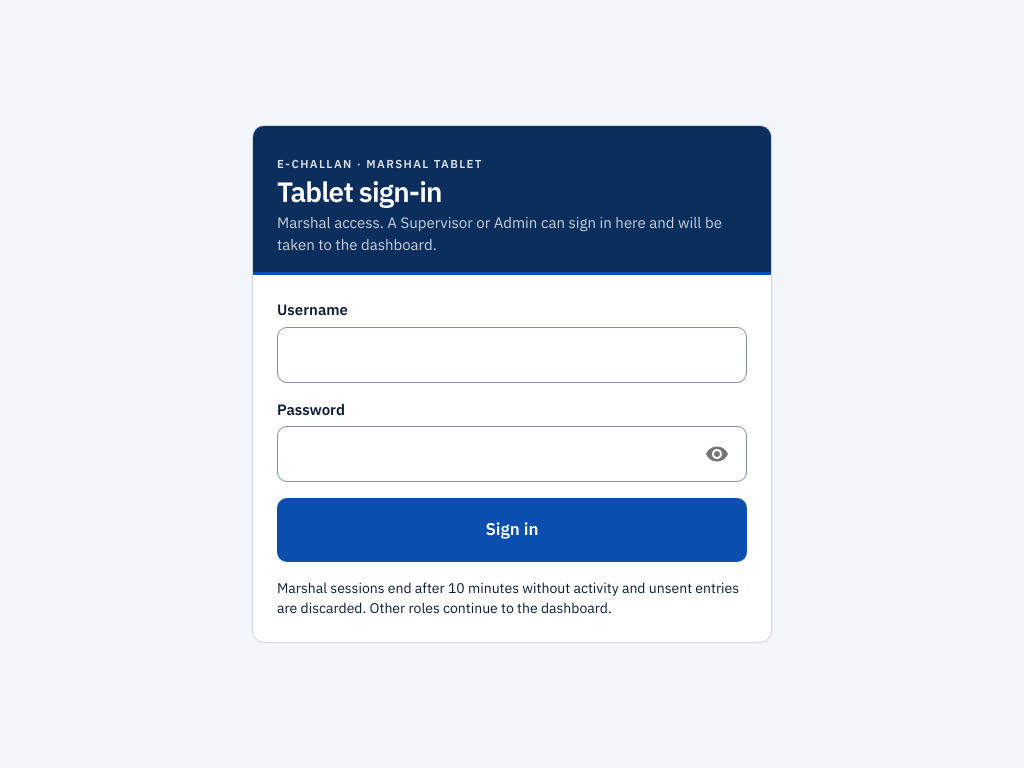
Test: AUTH-01/AUTH-04: tablet login, protected routes and idle logout › logs out on request and clears the session
Step 1. Type "EMP-3106" into the field labelled "Username" → (512, 354), box [277,326,747,382]
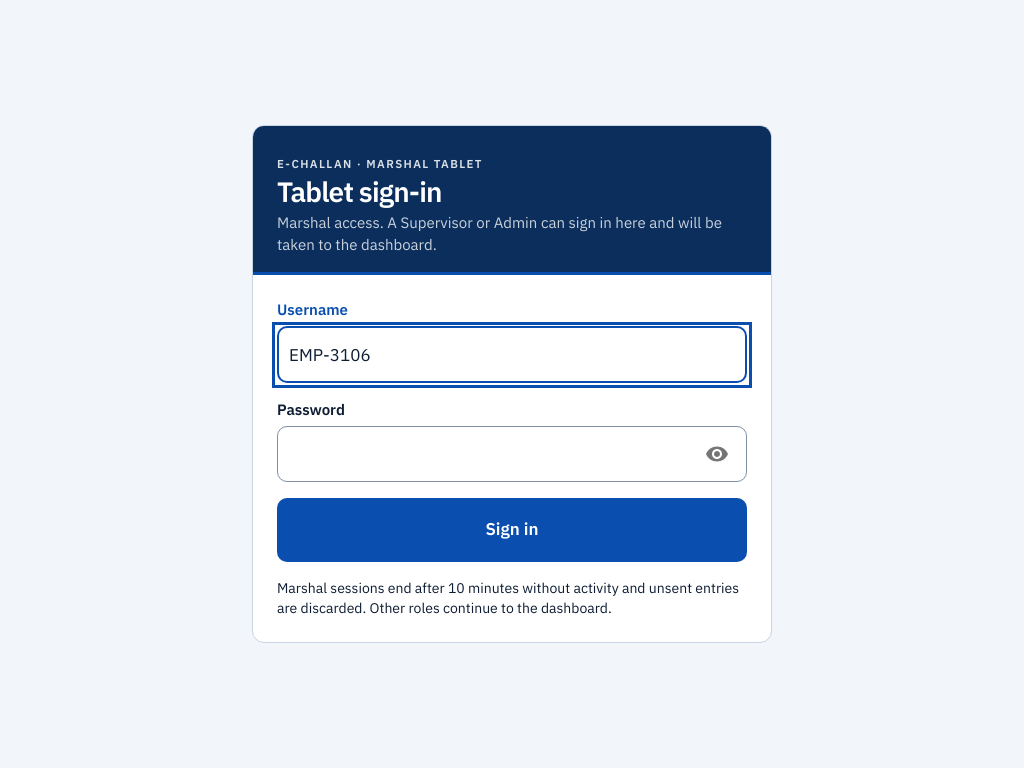
Step 2. Type "planner-demo-marshal-secret" into the password field labelled "Password" → (479, 454), box [277,426,681,482]
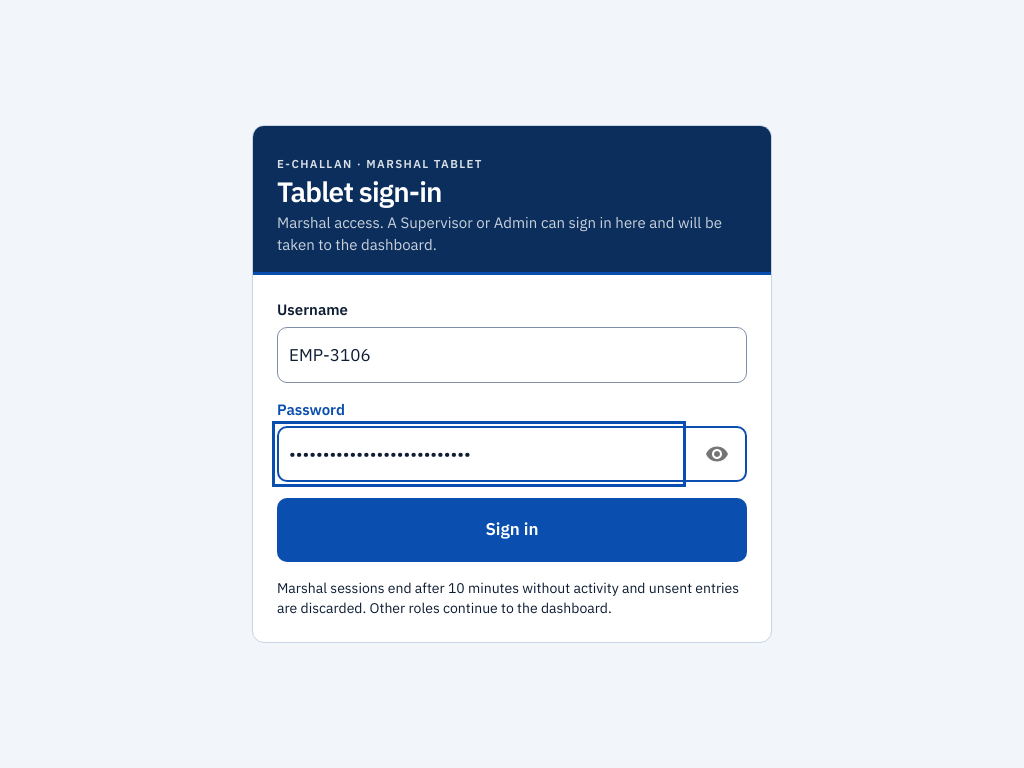
Step 3. Click the button "Sign in" → click(512, 530), box [277,498,747,562]
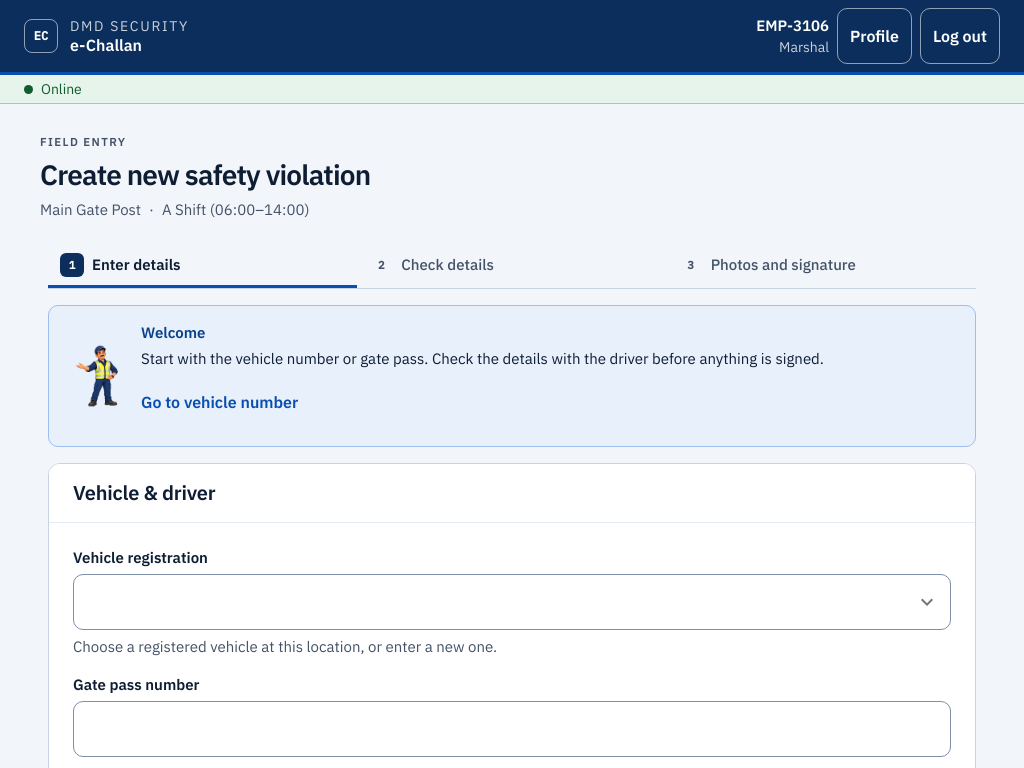
expect the heading "Create new safety violation" is shown: met, box [40,156,370,192]
Step 4. Click the button "Log out" → click(960, 36), box [920,8,1000,64]
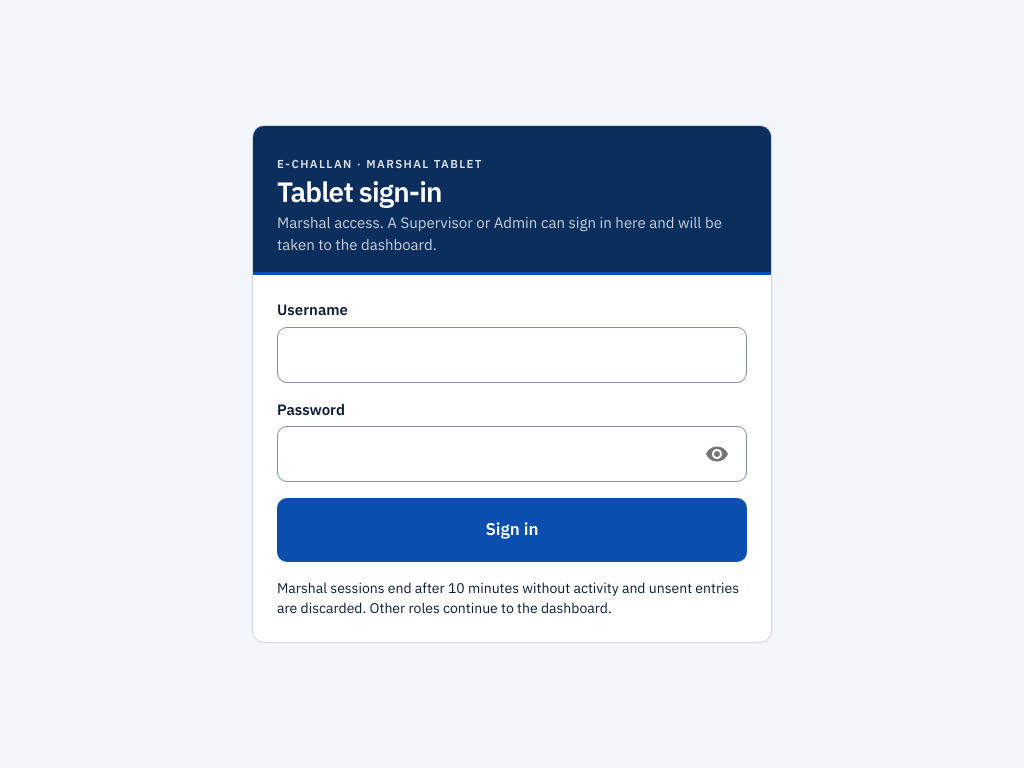
expect the password field labelled "Password" is shown: met, box [277,426,681,482]
expect the heading "Create new safety violation" is gone: met
